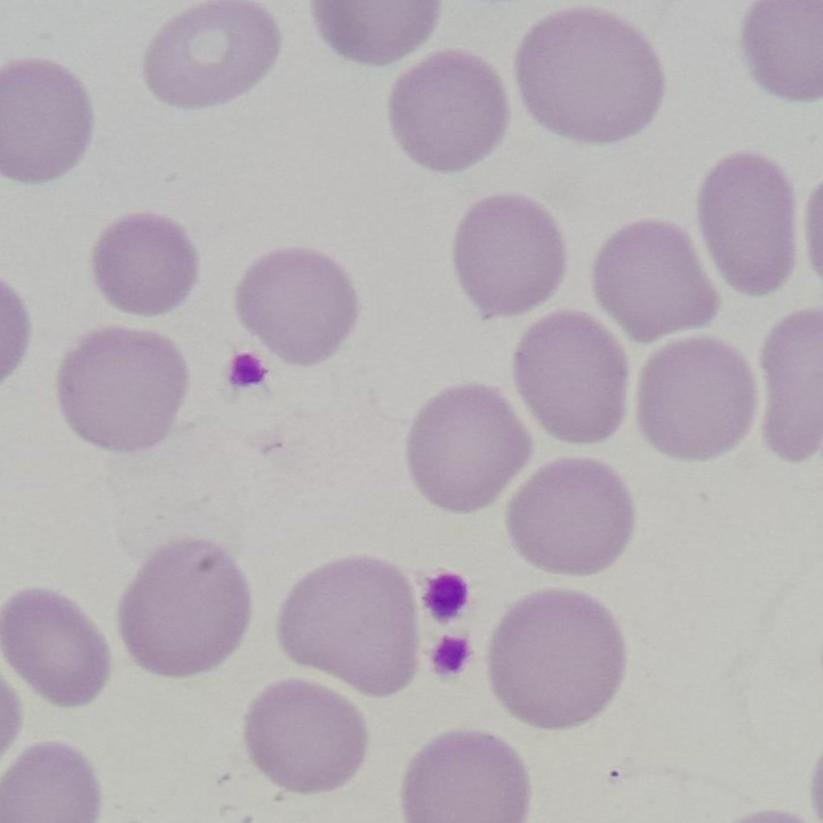Uninfected: (128, 280, 270, 419), (680, 518, 809, 662), (94, 490, 232, 624), (143, 119, 283, 250), (373, 54, 498, 183), (309, 407, 437, 528), (362, 634, 490, 755), (246, 508, 366, 635), (481, 592, 603, 716), (710, 142, 820, 279), (379, 514, 510, 628), (457, 235, 577, 359), (504, 453, 629, 566), (30, 244, 144, 365), (652, 392, 768, 508), (531, 698, 668, 795), (116, 2, 232, 106), (0, 404, 90, 530), (505, 92, 611, 197), (645, 1, 761, 89)
